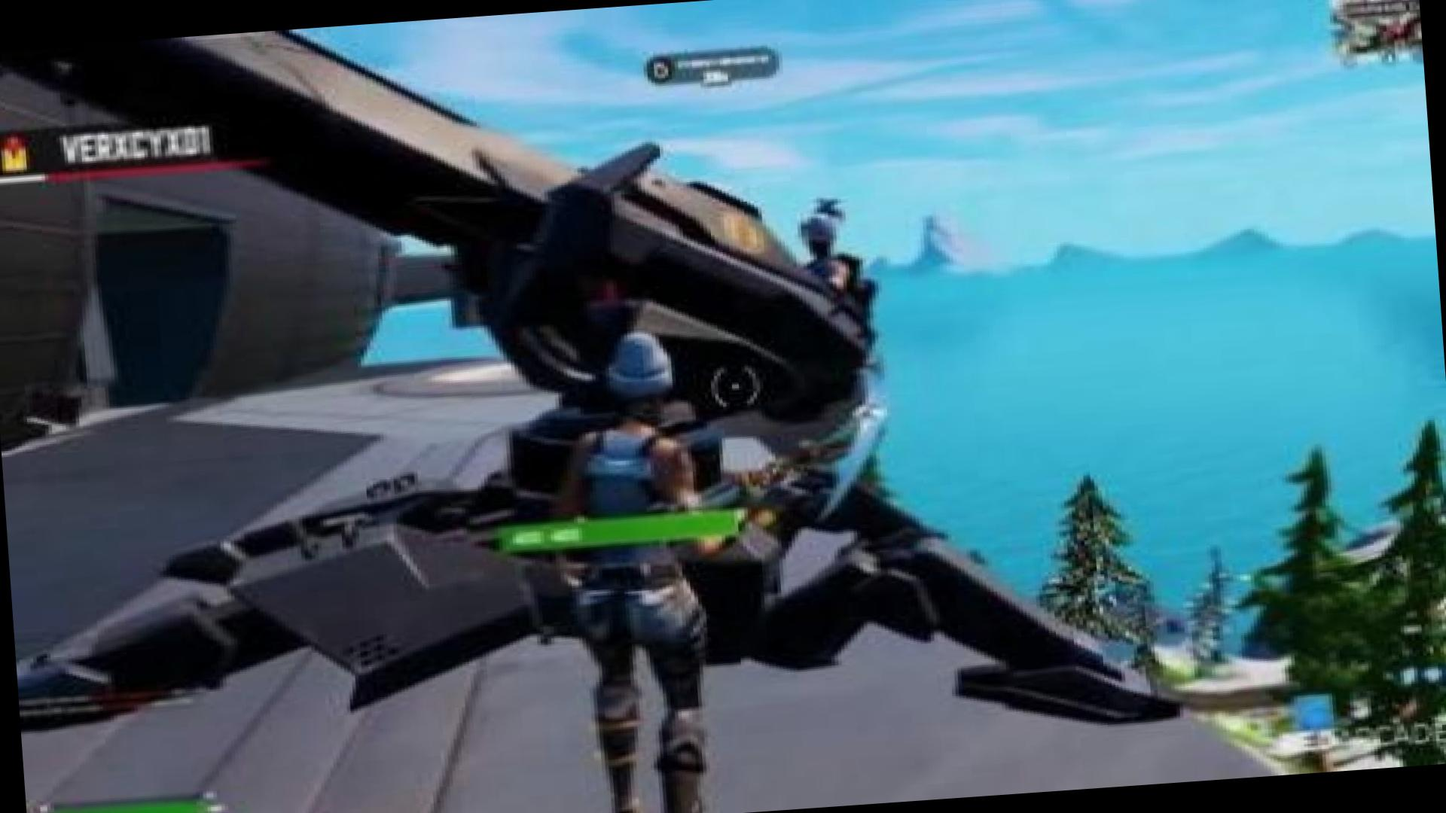player: (542, 346, 742, 798)
